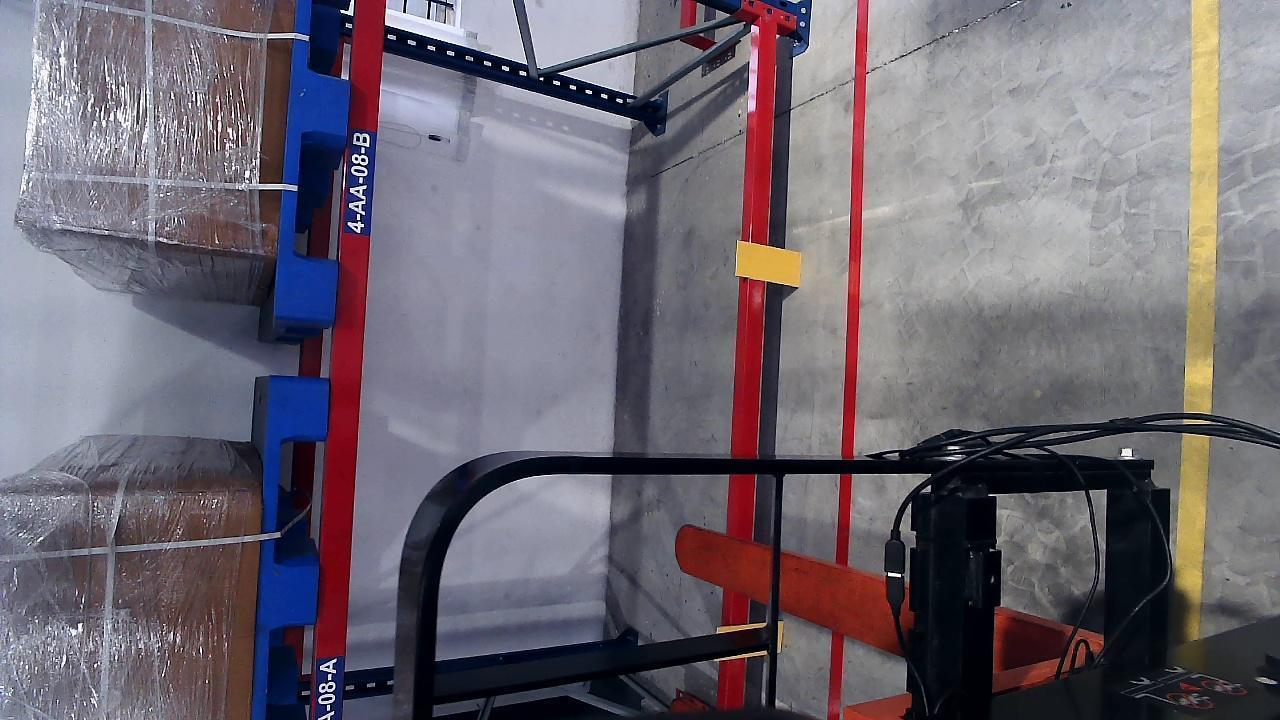red_line: (839, 10, 869, 587)
yellow_line: (1182, 1, 1221, 412), (1170, 428, 1211, 676)
